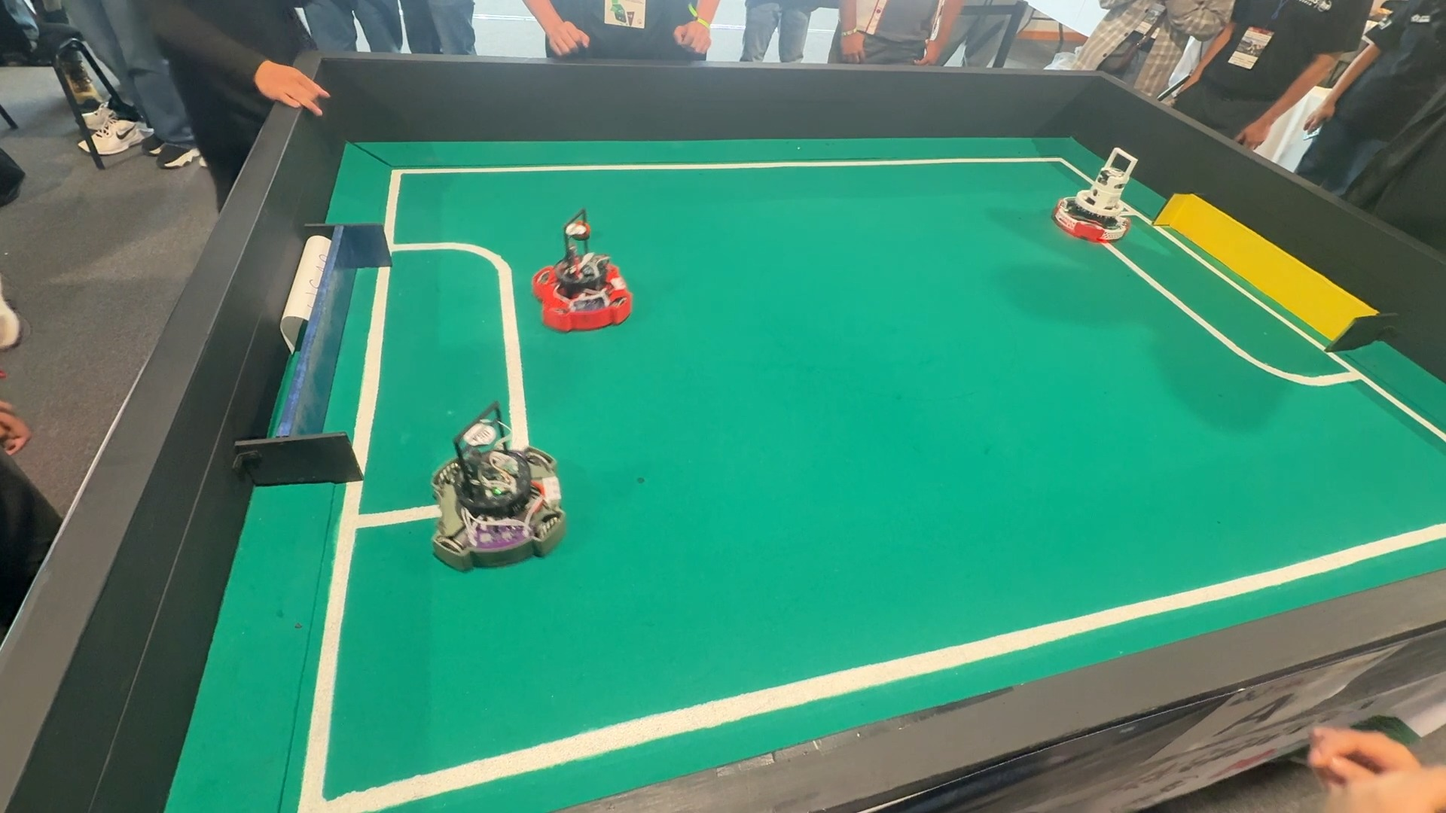Robot: (420, 404, 576, 585), (523, 212, 633, 340), (1045, 143, 1172, 248)
